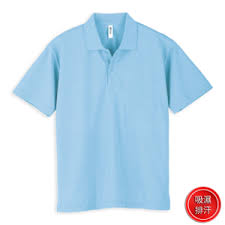C_polo shirt: (15, 14, 212, 209)
